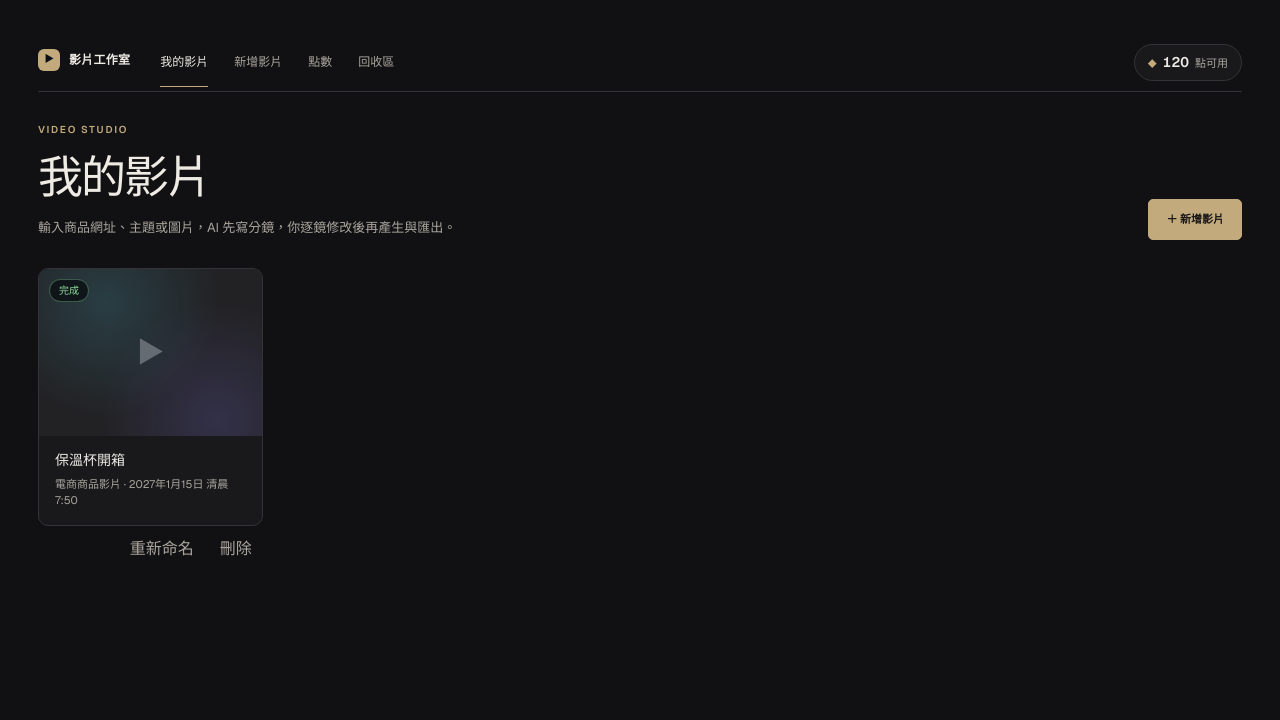
rename from the list › refuses an empty title and keeps the dialog open on a busy project
The image size is (1280, 720).
Click the button with aria-label "重新命名「保溫杯開箱」" at coordinates (162, 549), box left=119, top=532, right=205, bottom=566
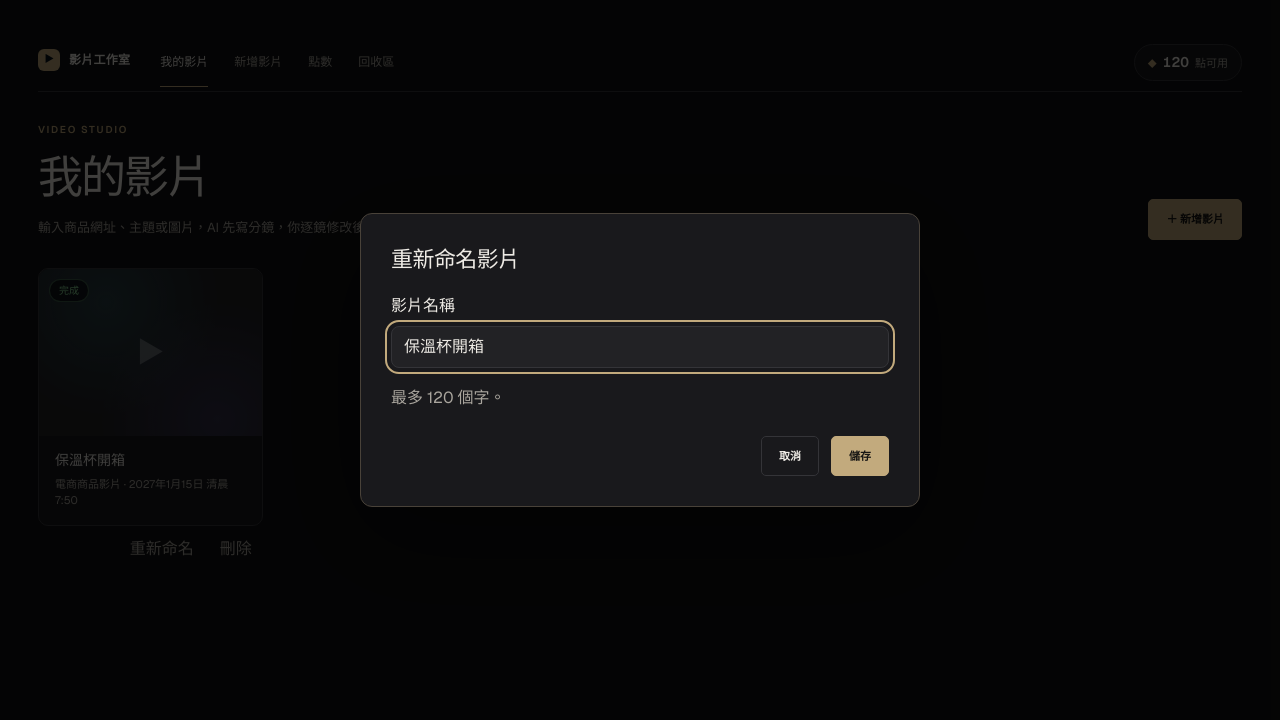
Clear the field labelled "影片名稱" at coordinates (640, 347), box left=391, top=326, right=889, bottom=368
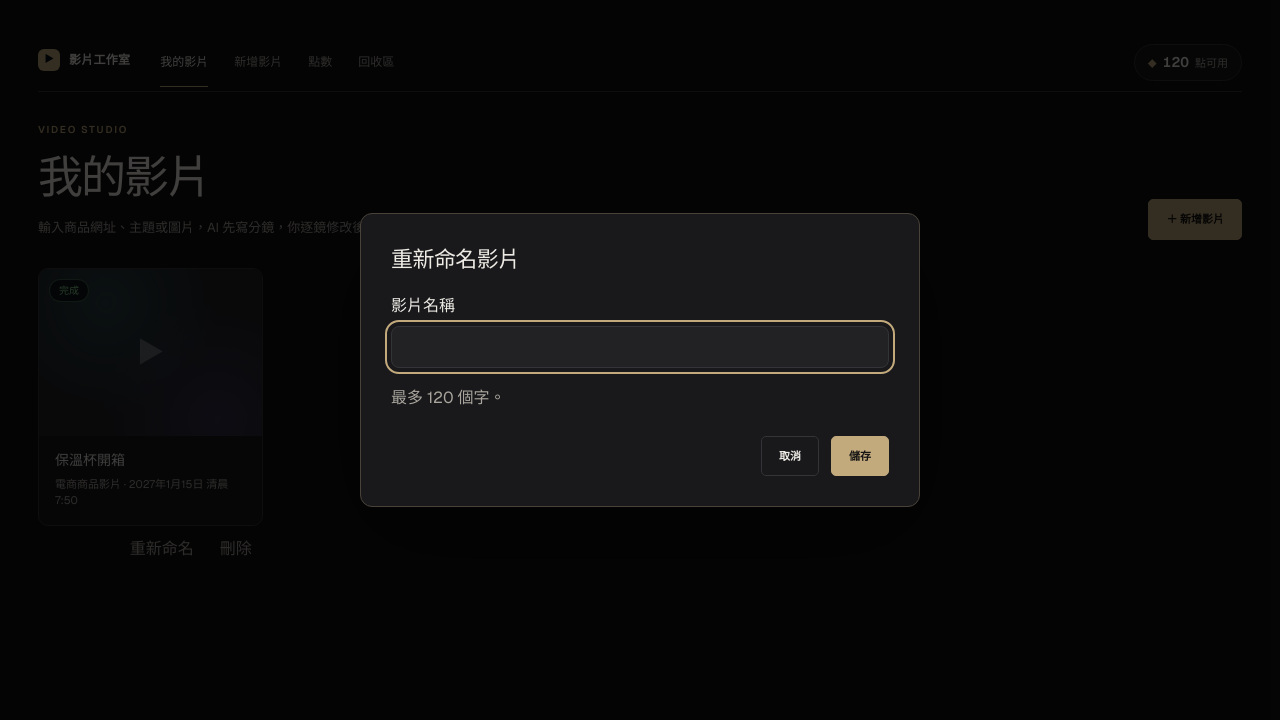
Click the button "儲存" at coordinates (860, 456), box left=831, top=436, right=889, bottom=476
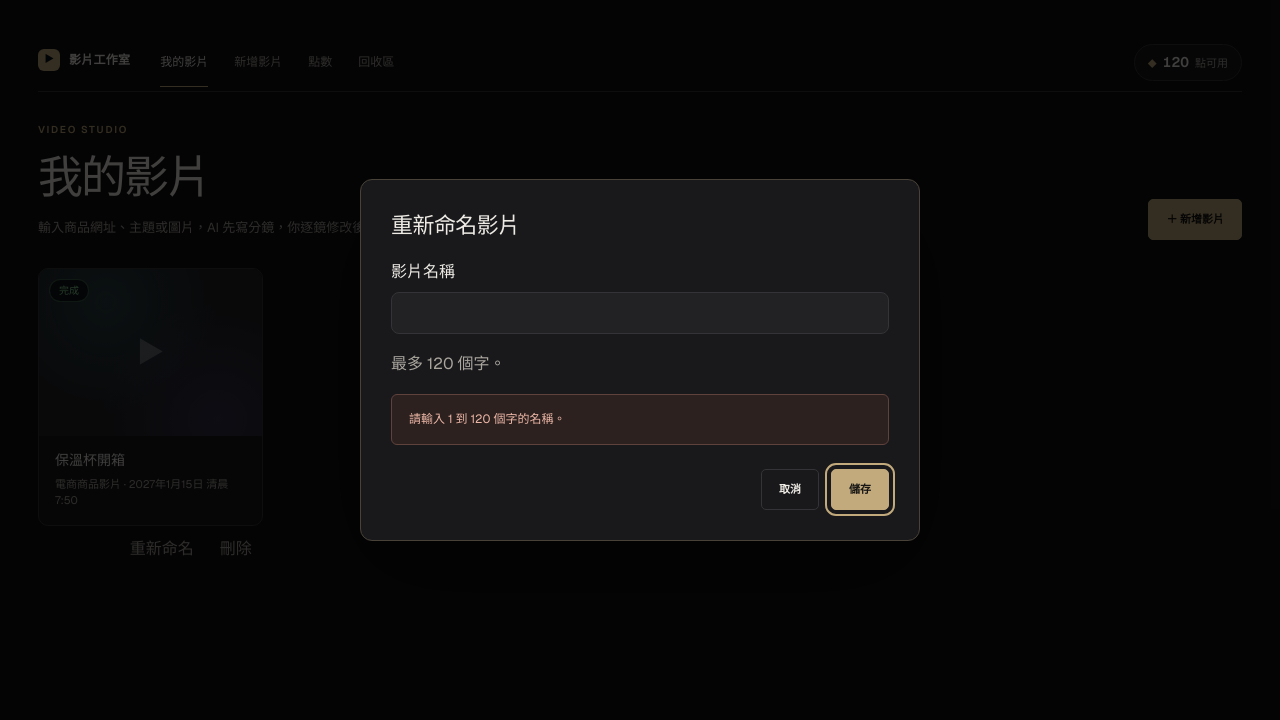
Result: the message shows "請輸入 1 到 120 個字的名稱" at left=409, top=411, right=566, bottom=427
Type "新名稱" into the field labelled "影片名稱" at coordinates (640, 313), box left=391, top=292, right=889, bottom=334
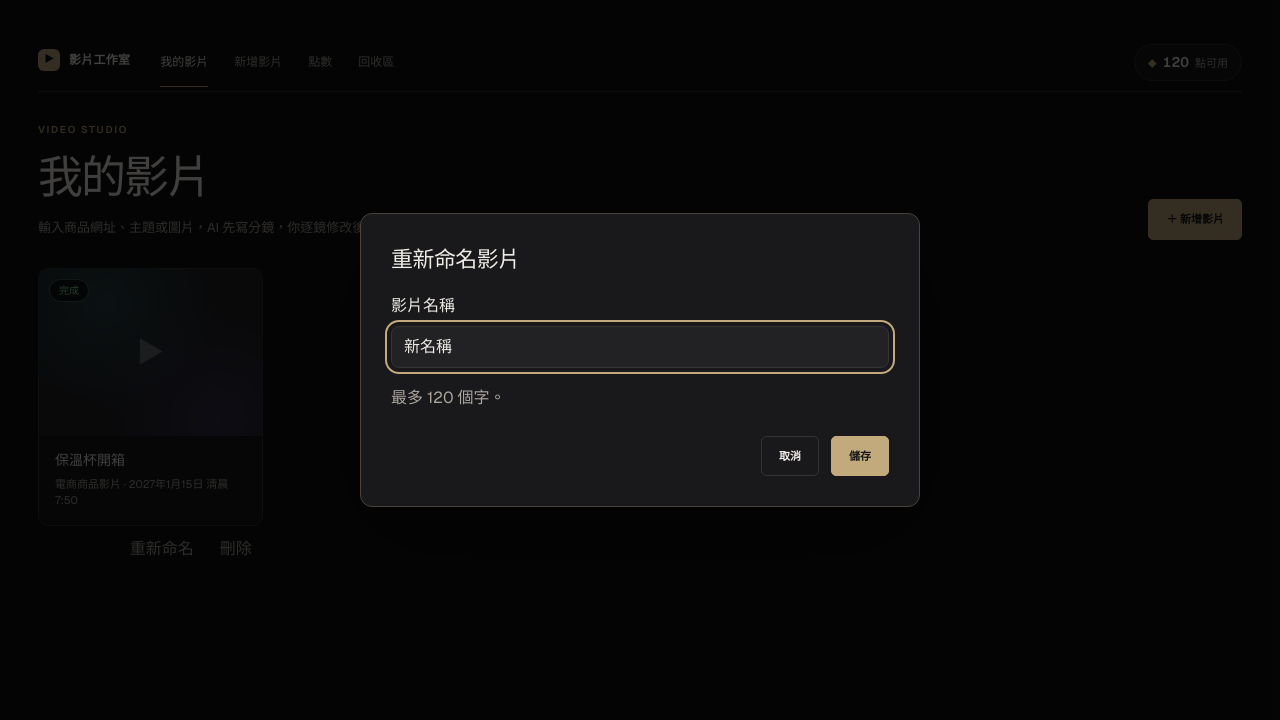
Click the button "儲存" at coordinates (860, 456), box left=831, top=436, right=889, bottom=476
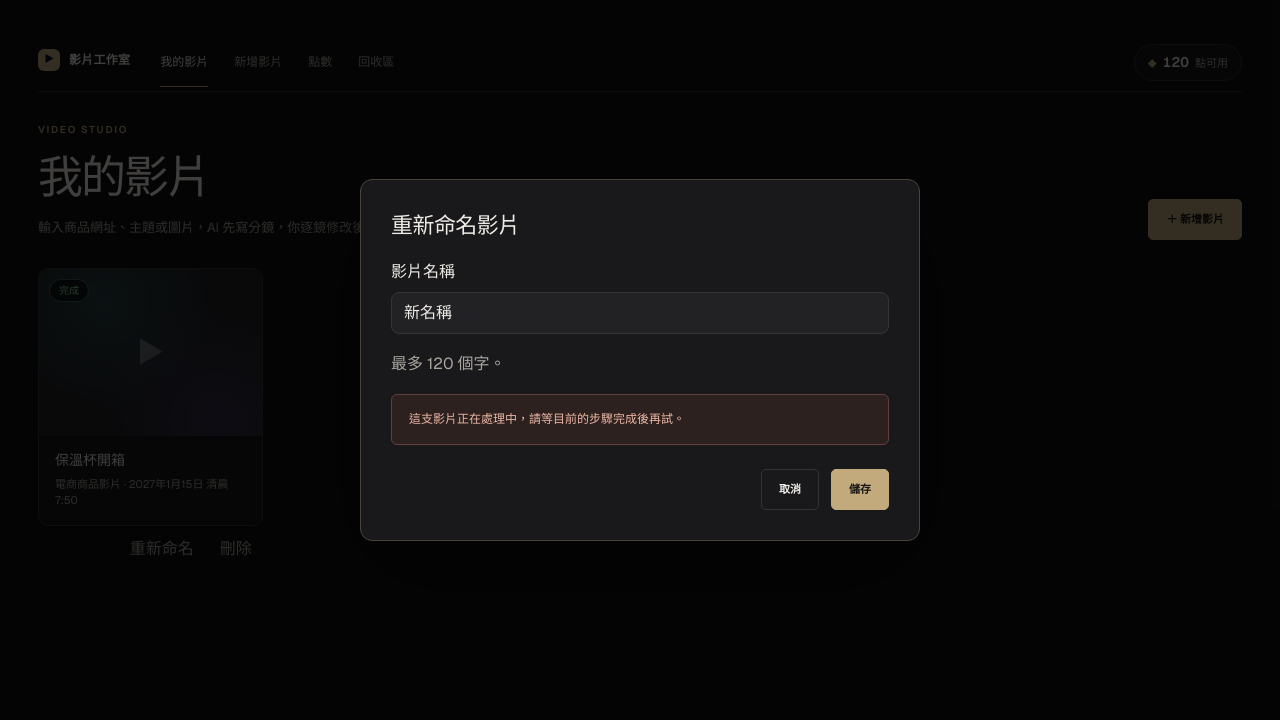
Expected: the link "▶ 完成 保溫杯開箱 電商商品影片 · 2027年1月15日 清晨7:50" is shown, left=38, top=268, right=263, bottom=526
Result: the message shows "正在處理中" at left=409, top=411, right=685, bottom=427
